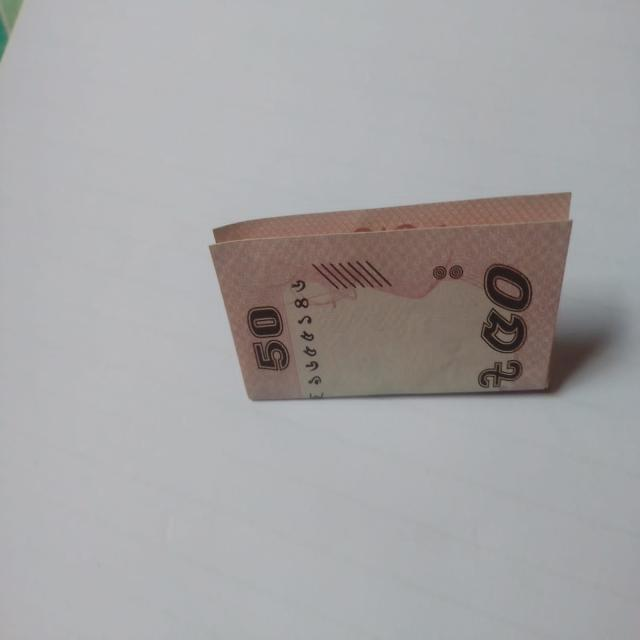Taka: (206, 208, 572, 405)
